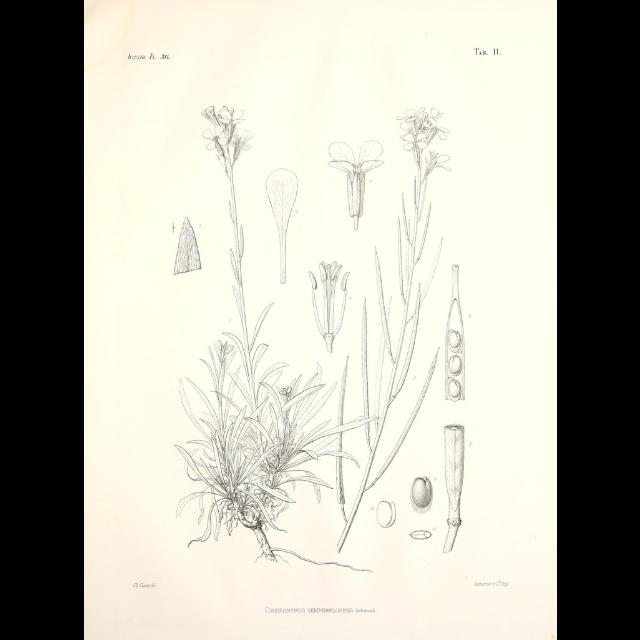Flower: (328, 140, 378, 224), (304, 261, 344, 353), (202, 102, 248, 162), (399, 108, 448, 150), (425, 148, 447, 170)
